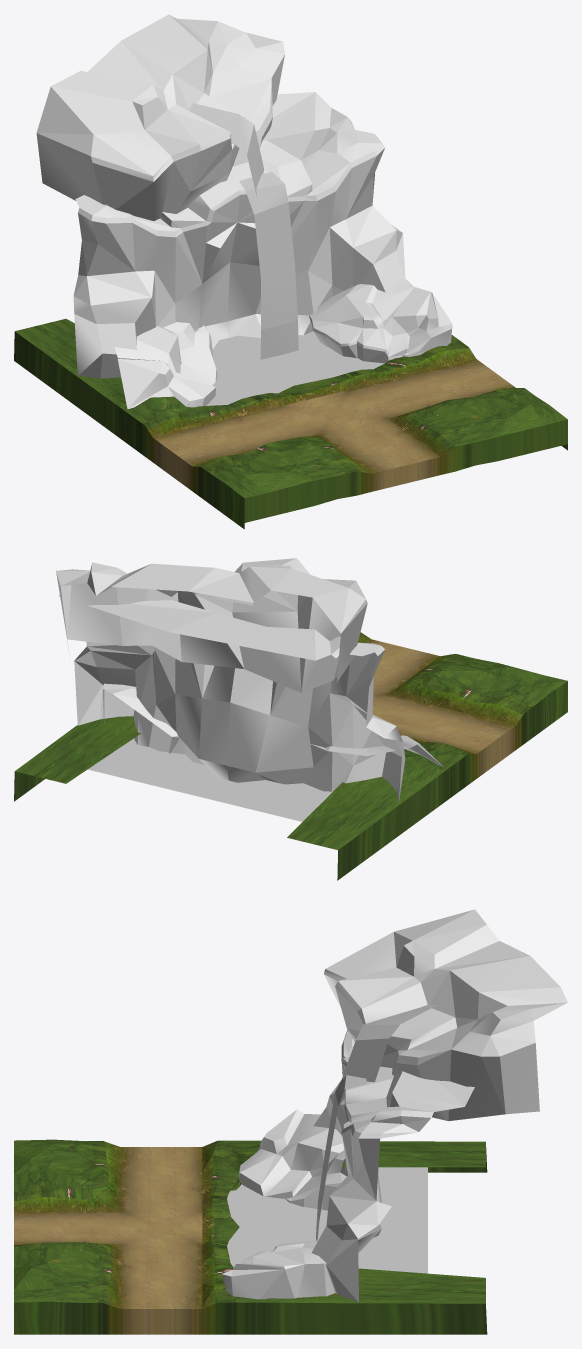
The picture shows the model from 3 angles, top to bottom: view 1: azimuth 30°, elevation 25°; view 2: azimuth 150°, elevation 25°; view 3: azimuth 270°, elevation 25°; orthographic projection. The views are drawn at different scales.
Visible parts, largest first — view 1: left_and_right, left_and_right.001; view 2: left_and_right; view 3: left_and_right, left_and_right.001.
Boxes of the visible parts, <box> form: left_and_right: <box>14,14,567,529</box>; left_and_right.001: <box>190,103,298,359</box>; left_and_right: <box>14,558,567,880</box>; left_and_right: <box>14,909,567,1334</box>; left_and_right.001: <box>316,1004,436,1240</box>.
Size of the model in its own units: 29068 by 23602 by 41330.
